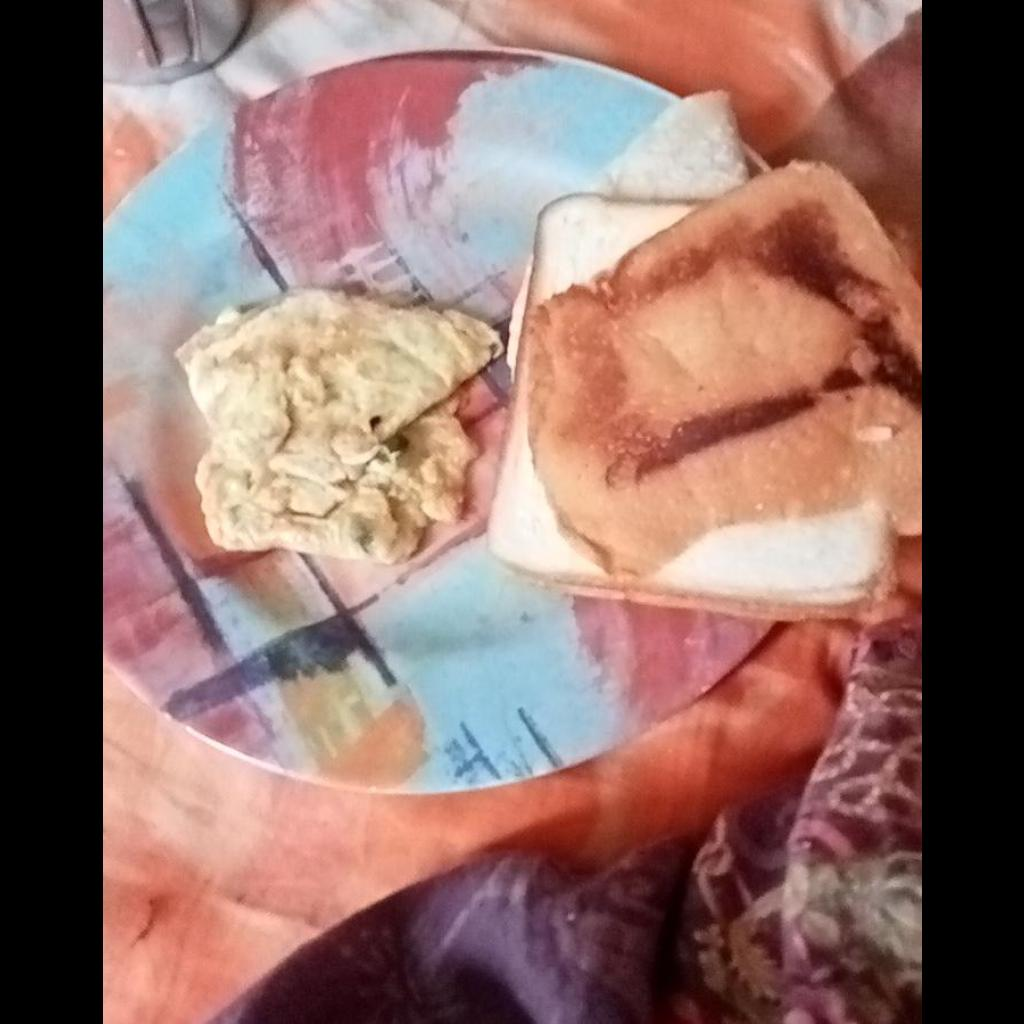bread: (486, 84, 919, 622)
egg-poached: (171, 294, 503, 561)
